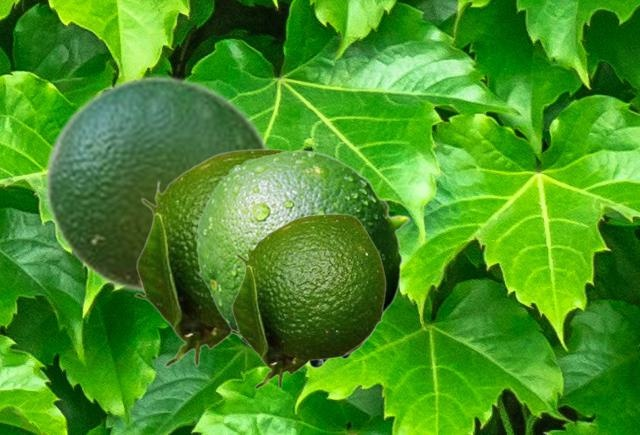dalandan: (43, 74, 273, 297), (196, 149, 409, 368), (133, 148, 288, 367), (229, 213, 385, 389)
